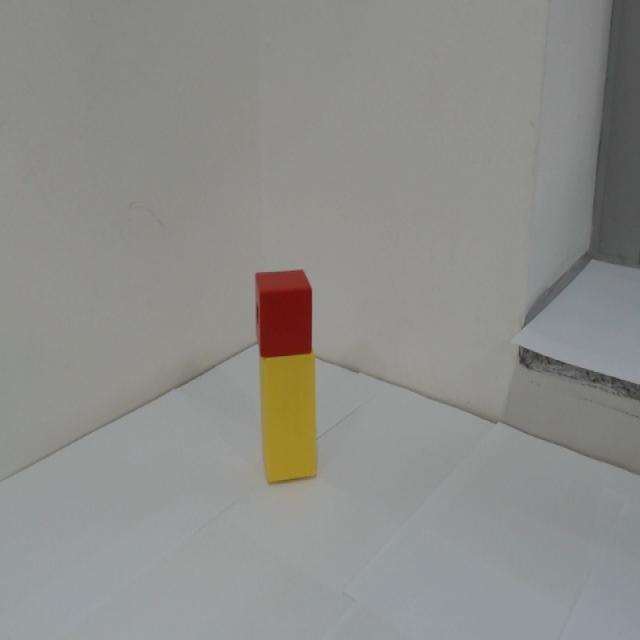cube: (250, 263, 322, 361)
